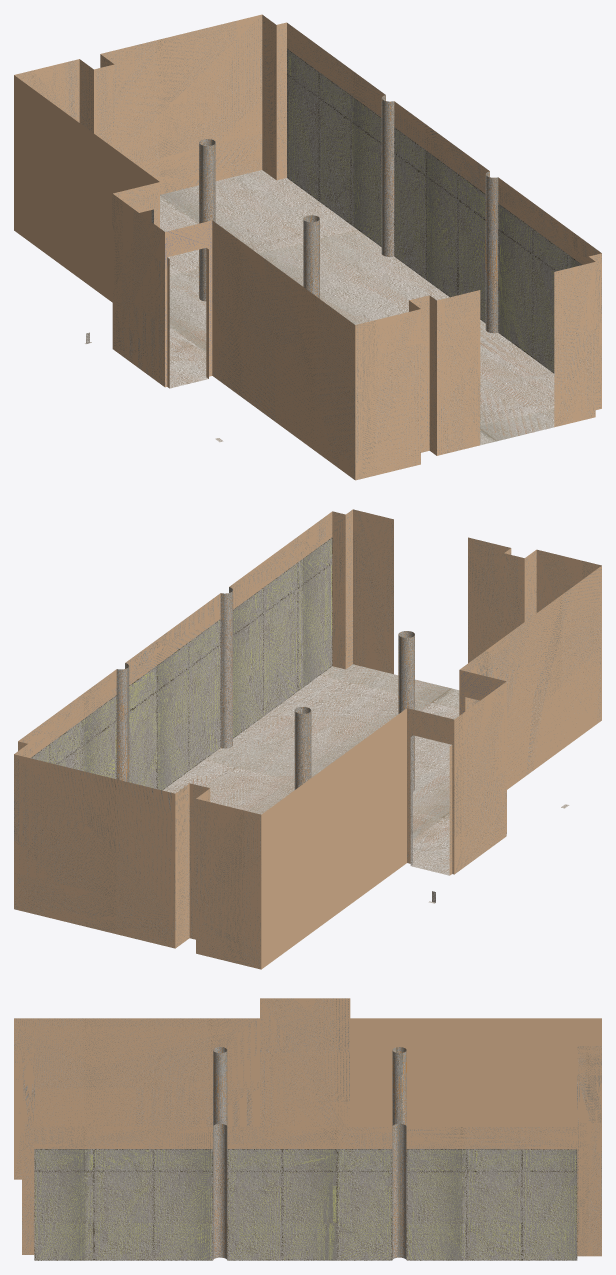
The model's file is COM015.obj.
3 renders of one model, top to bottom at view 1: azimuth 30°, elevation 25°; view 2: azimuth 150°, elevation 25°; view 3: azimuth 270°, elevation 25°, orthographic. The views are drawn at different scales.
Parts seen in each view (by area): view 1: Mesh1 COM015 Model, Mesh3 COM015 Model, Mesh5 COM015 Model; view 2: Mesh1 COM015 Model, Mesh5 COM015 Model, Mesh3 COM015 Model; view 3: Mesh1 COM015 Model, Mesh3 COM015 Model, Mesh5 COM015 Model.
Part boxes in pixels (<box>): Mesh1 COM015 Model: <box>14,14,601,480</box>; Mesh3 COM015 Model: <box>199,139,215,301</box>; Mesh5 COM015 Model: <box>303,215,319,298</box>; Mesh1 COM015 Model: <box>14,509,601,969</box>; Mesh5 COM015 Model: <box>398,631,414,791</box>; Mesh3 COM015 Model: <box>294,707,311,789</box>; Mesh1 COM015 Model: <box>14,998,601,1260</box>; Mesh3 COM015 Model: <box>392,1047,406,1125</box>; Mesh5 COM015 Model: <box>213,1047,227,1126</box>.
Bounding box in the file's own units: 7.52 × 3.85 × 14.34.
7 materials, 2 textured.
